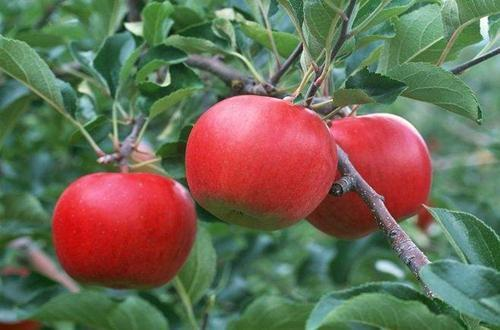apple: (182, 96, 330, 229), (51, 173, 197, 287), (316, 114, 435, 236)
